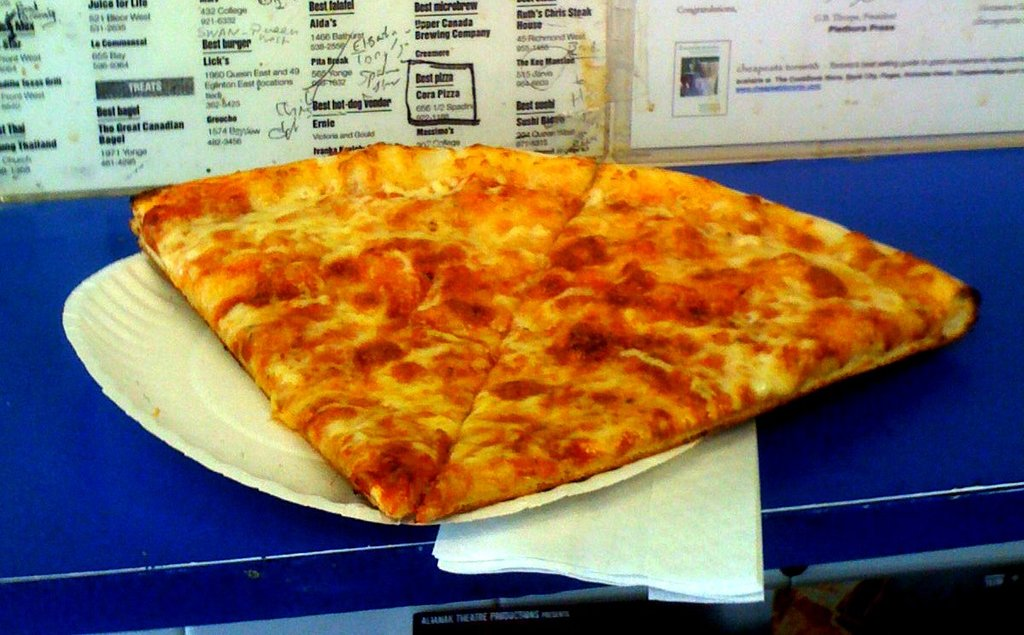Pizza: (131, 145, 951, 529)
